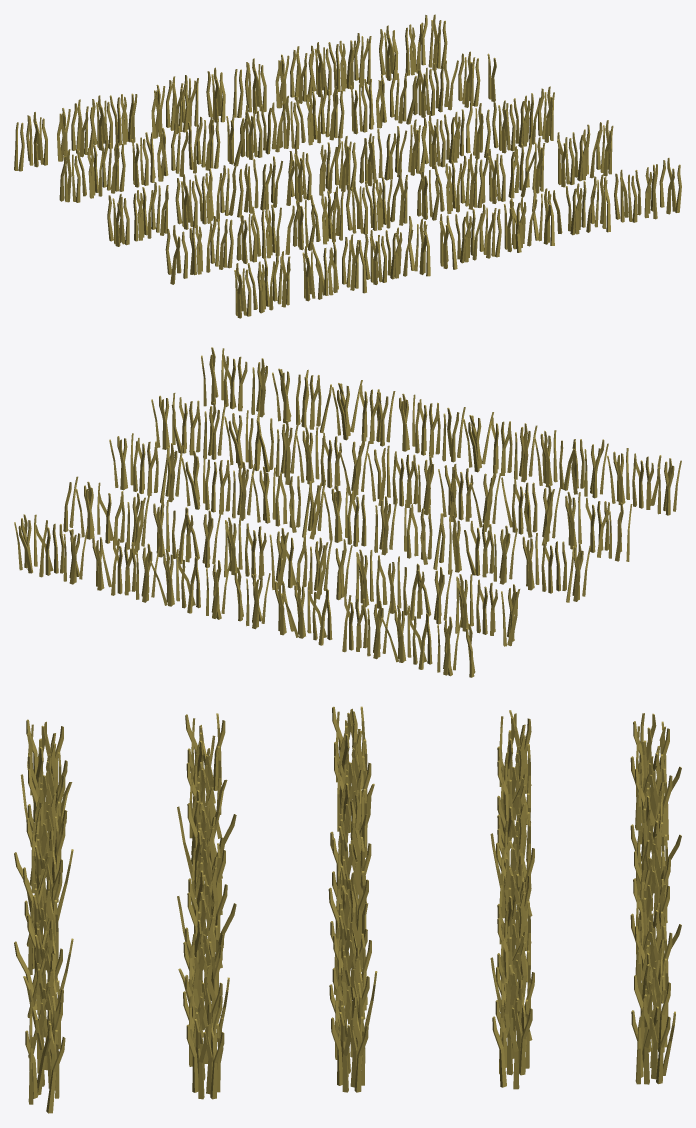
The model's file is Farm_FirstAge_Level3_Wheat.glb.
3 renders of one model, top to bottom at view 1: azimuth 30°, elevation 25°; view 2: azimuth 150°, elevation 25°; view 3: azimuth 270°, elevation 25°, orthographic. The views are drawn at different scales.
Visible parts, largest first — view 1: Farm_FirstAge_Level3_Wheat; view 2: Farm_FirstAge_Level3_Wheat; view 3: Farm_FirstAge_Level3_Wheat.
Part boxes in pixels (x1,y1,x2,y2): Farm_FirstAge_Level3_Wheat: [14, 14, 681, 318]; Farm_FirstAge_Level3_Wheat: [14, 347, 681, 677]; Farm_FirstAge_Level3_Wheat: [14, 706, 681, 1113].
Bounding box in the file's own units: 1.72 × 0.1883 × 1.45.
